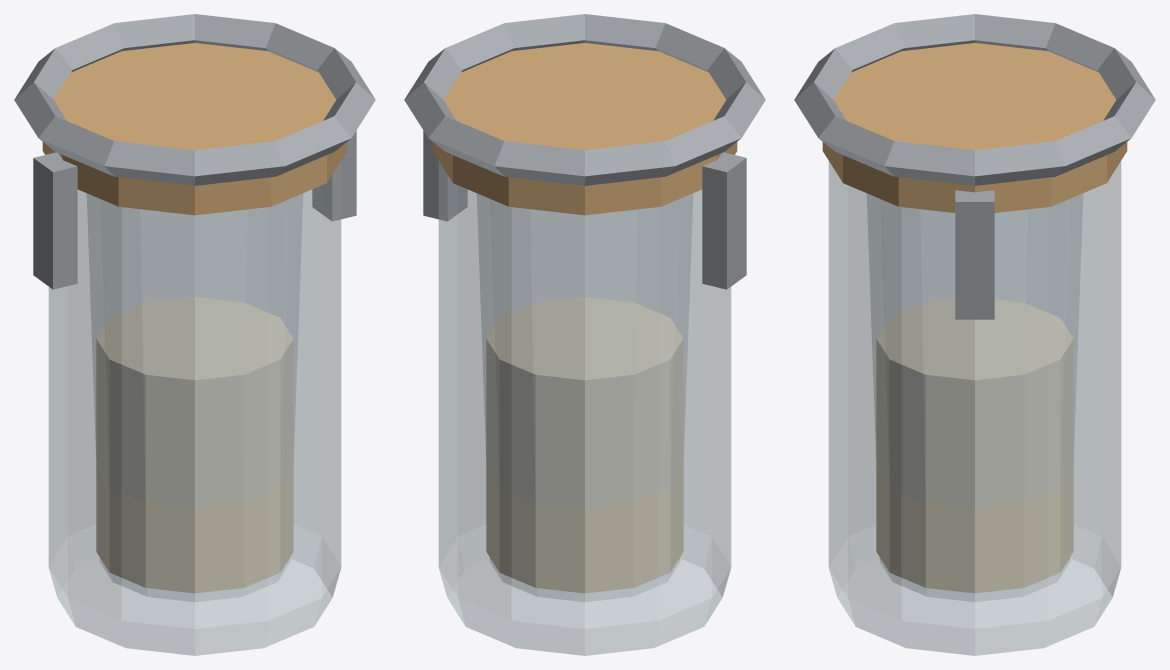
File: SM_LPI_Ware_StorageJar_01.fbx
3 views of the same model, side by side, from view 1: azimuth 30°, elevation 25°; view 2: azimuth 150°, elevation 25°; view 3: azimuth 270°, elevation 25° (orthographic).
Visible parts, largest first — view 1: SM_LPI_Ware_StorageJar_01; view 2: SM_LPI_Ware_StorageJar_01; view 3: SM_LPI_Ware_StorageJar_01.
Boxes of the visible parts, bbox=[...] form: SM_LPI_Ware_StorageJar_01: bbox=[14, 14, 375, 655]; SM_LPI_Ware_StorageJar_01: bbox=[404, 14, 765, 655]; SM_LPI_Ware_StorageJar_01: bbox=[794, 14, 1155, 655].
Size of the model in its own units: 0.1284 by 0.202 by 0.1284.
